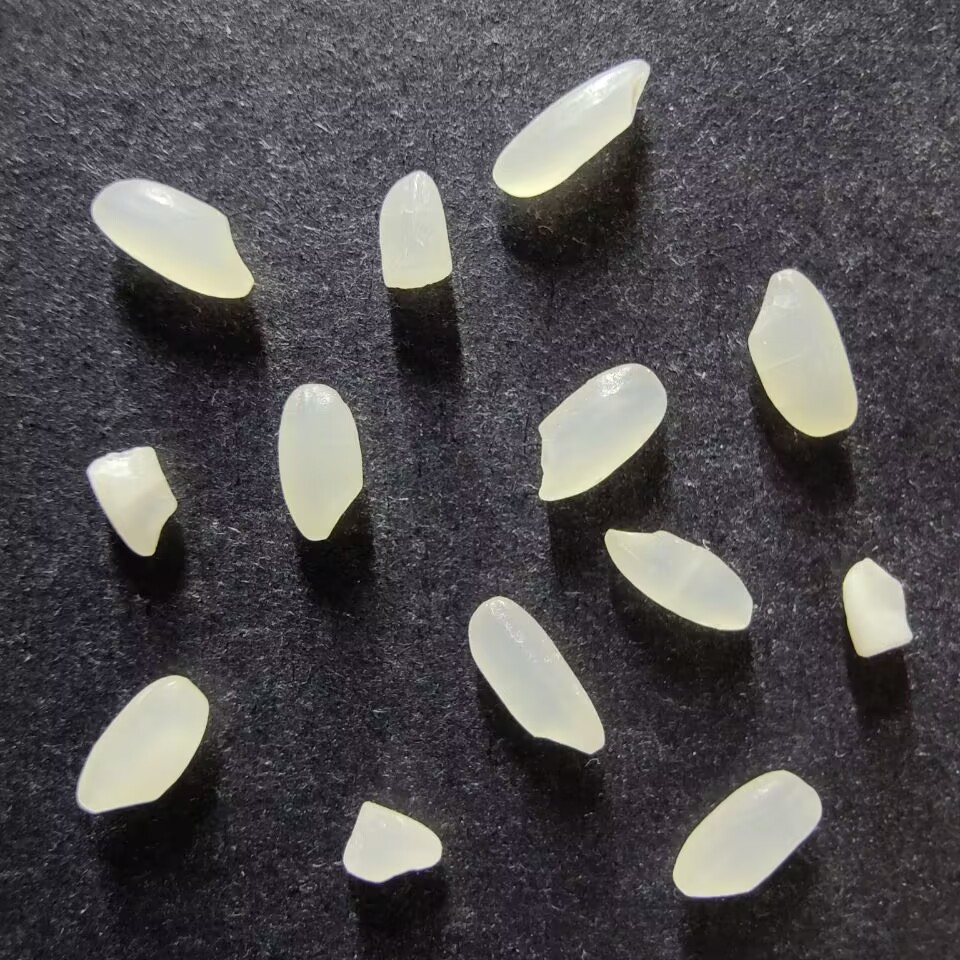broken: (86, 445, 176, 557), (378, 170, 452, 289), (342, 800, 441, 884), (841, 556, 913, 658)
rice: (491, 57, 650, 198), (467, 595, 606, 756), (90, 178, 254, 299), (671, 769, 822, 898), (746, 268, 859, 437), (75, 674, 209, 814), (536, 362, 667, 502), (603, 527, 753, 632), (277, 382, 363, 542)
